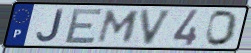4: (171, 8, 201, 48)
E: (62, 8, 105, 45)
J: (35, 8, 65, 43)
M: (95, 9, 142, 44)
O: (204, 9, 240, 48)
V: (139, 8, 176, 47)
